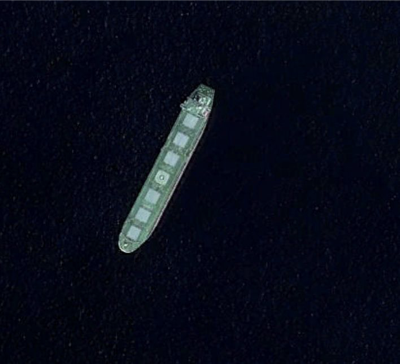boat: (117, 83, 216, 254)
